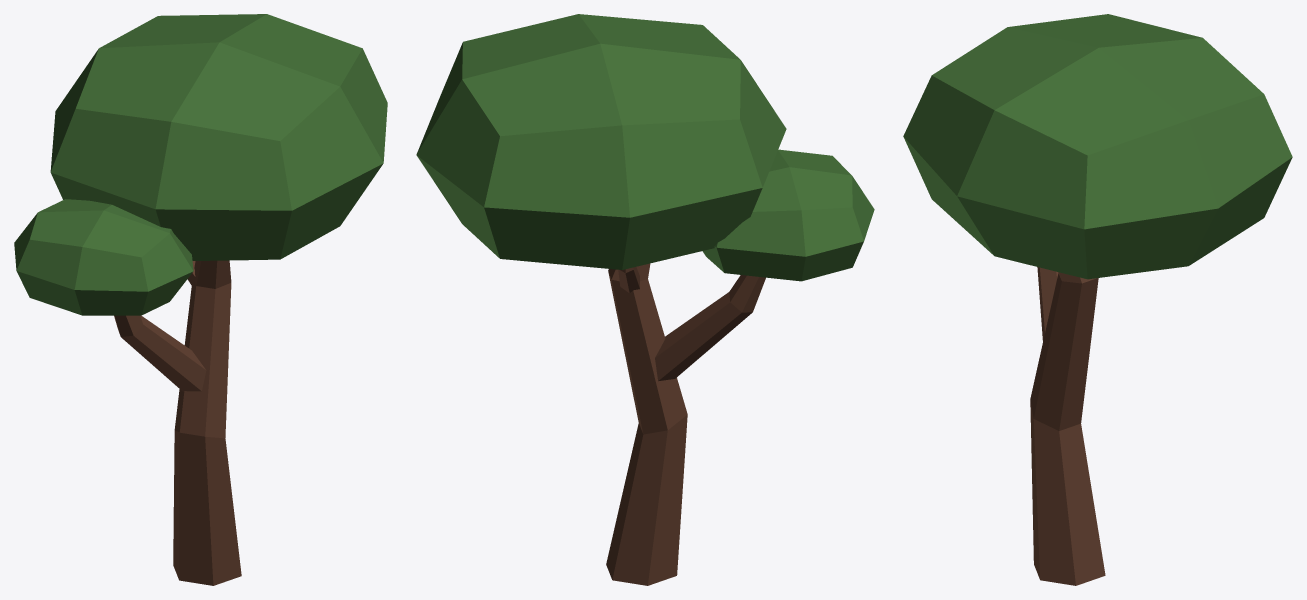
Rendered from Tree.fbx.
3 renders of one model, left to right at view 1: azimuth 30°, elevation 25°; view 2: azimuth 150°, elevation 25°; view 3: azimuth 270°, elevation 25°, orthographic. The views are drawn at different scales.
Parts seen in each view (by area): view 1: Tree; view 2: Tree; view 3: Tree.
Boxes of the visible parts, x1,y1,x2,y2 form: Tree: (14,14,387,585); Tree: (416,14,874,585); Tree: (903,14,1292,585).
Bounding box in the file's own units: 102 × 128 × 84.15.
